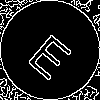E: (25, 25, 80, 82)
